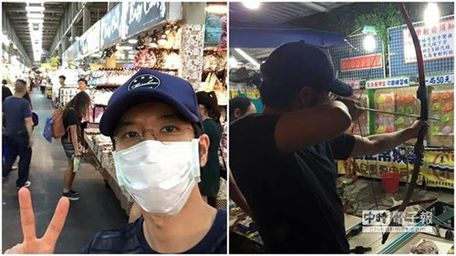mask: (100, 114, 208, 220)
